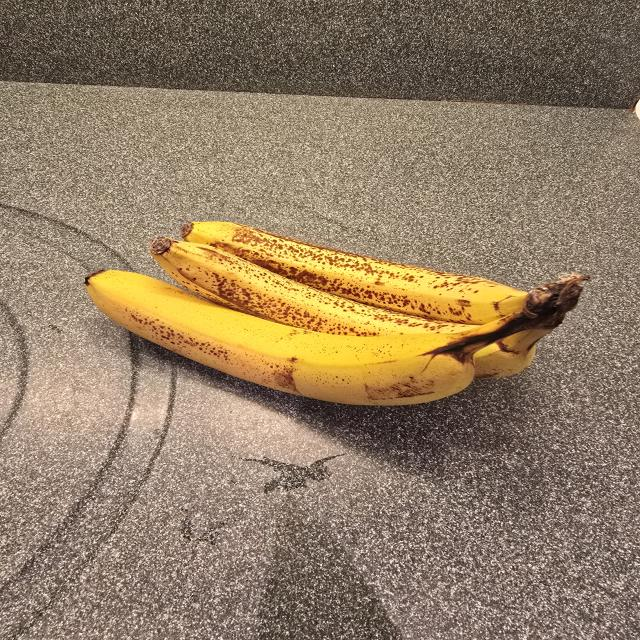Banana: (86, 222, 588, 405)
